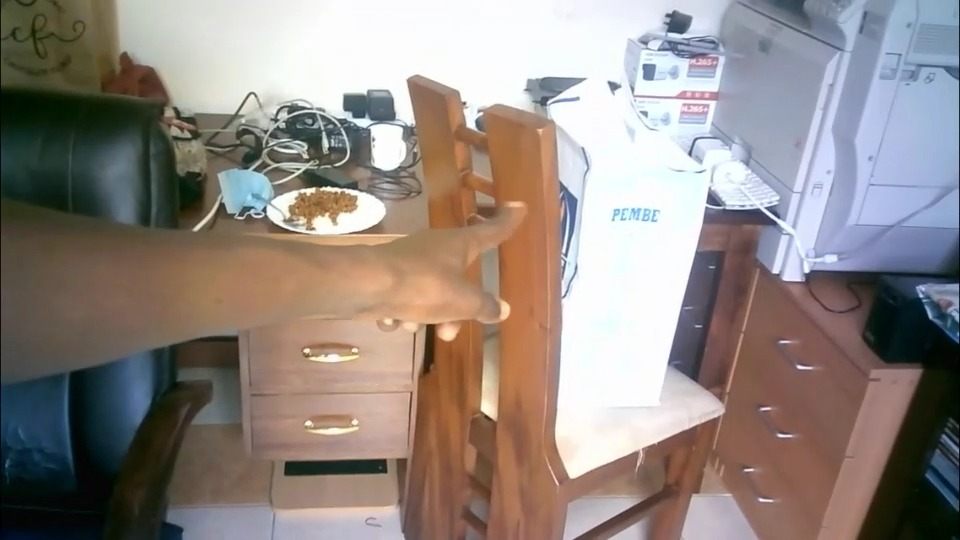maize_flour_green_label: (557, 93, 711, 403)
